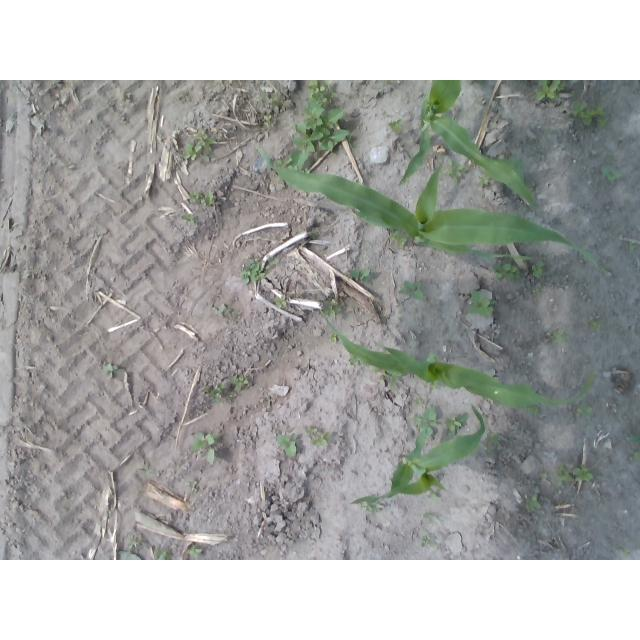Maize: (256, 143, 609, 276), (319, 311, 597, 409), (398, 80, 538, 217), (347, 405, 485, 504)
Weeds: (291, 80, 349, 169), (568, 100, 608, 129), (182, 129, 214, 163), (555, 462, 595, 487), (190, 431, 219, 465), (466, 290, 497, 318), (412, 406, 438, 438), (240, 259, 266, 286), (535, 80, 566, 102), (397, 279, 427, 301), (276, 156, 310, 175), (491, 261, 521, 282), (443, 158, 466, 184), (277, 431, 299, 457), (307, 425, 331, 447), (201, 381, 225, 403), (349, 266, 372, 285), (322, 298, 342, 318), (600, 165, 622, 182), (260, 90, 281, 107), (546, 330, 566, 347), (211, 303, 234, 317), (420, 529, 436, 549), (526, 492, 542, 512), (361, 501, 383, 515), (575, 402, 593, 419), (389, 231, 407, 248), (231, 375, 249, 391), (444, 416, 462, 432), (116, 549, 142, 560), (348, 351, 368, 365), (530, 260, 546, 277), (502, 156, 522, 169), (388, 118, 404, 134), (102, 362, 117, 377), (273, 295, 287, 310), (188, 545, 203, 559), (524, 404, 540, 417), (155, 548, 171, 560), (185, 480, 199, 493), (588, 319, 602, 331), (187, 190, 201, 202), (202, 191, 214, 205), (390, 372, 399, 390), (479, 174, 492, 186), (181, 213, 196, 223), (487, 433, 500, 444), (126, 539, 138, 550), (429, 381, 440, 392), (267, 256, 280, 265), (619, 547, 629, 557), (630, 431, 640, 441), (330, 332, 339, 343), (426, 492, 437, 500), (119, 93, 131, 100), (486, 444, 495, 452), (534, 288, 543, 296), (371, 365, 381, 372), (425, 513, 435, 520), (633, 449, 640, 459), (414, 398, 422, 406), (628, 242, 636, 250), (380, 372, 388, 380), (264, 115, 273, 121), (538, 471, 547, 477), (311, 231, 318, 237)
